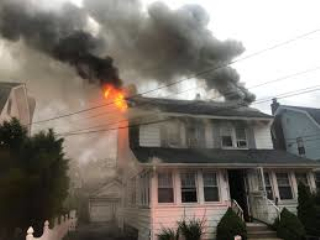fire: (100, 83, 132, 114)
smoke: (123, 5, 263, 104), (5, 4, 127, 88)
